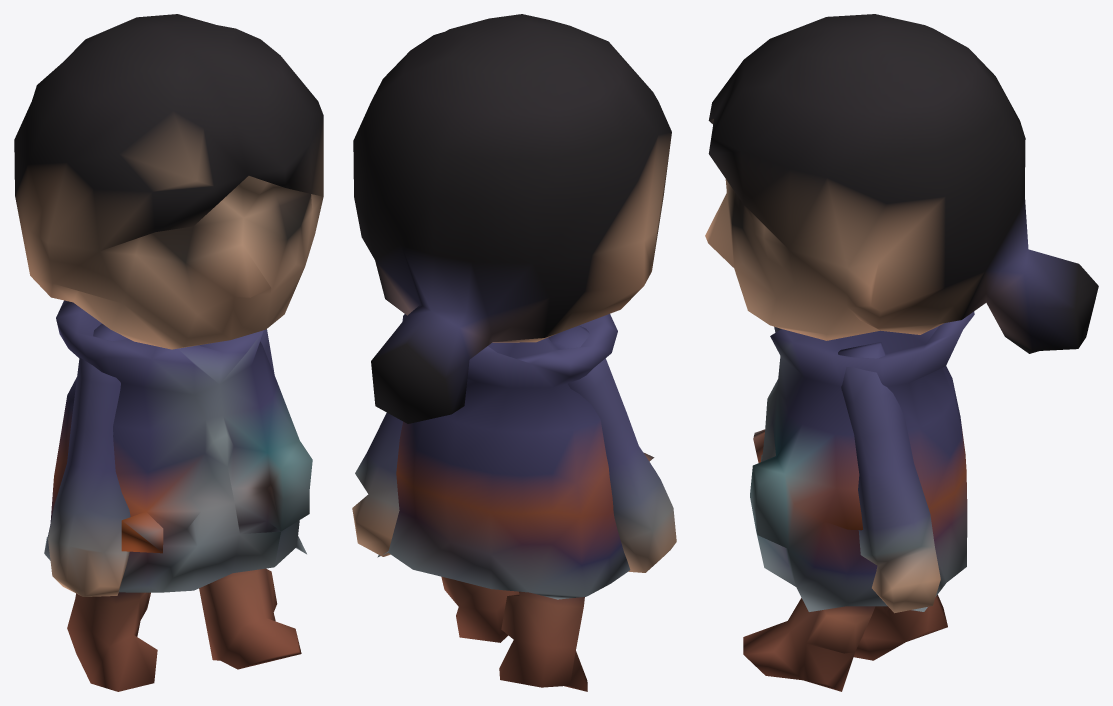
File: char2-ong-1.glb
The picture shows the model from 3 angles, left to right: view 1: azimuth 30°, elevation 25°; view 2: azimuth 150°, elevation 25°; view 3: azimuth 270°, elevation 25°; orthographic projection.
Visible parts, largest first — view 1: char; view 2: char; view 3: char.
Boxes of the visible parts, left/top/right/bottom form: char: left=14, top=14, right=323, bottom=691; char: left=352, top=14, right=676, bottom=691; char: left=705, top=14, right=1098, bottom=691.
Bounding box in the file's own units: 1.04 × 2.2 × 1.23.
